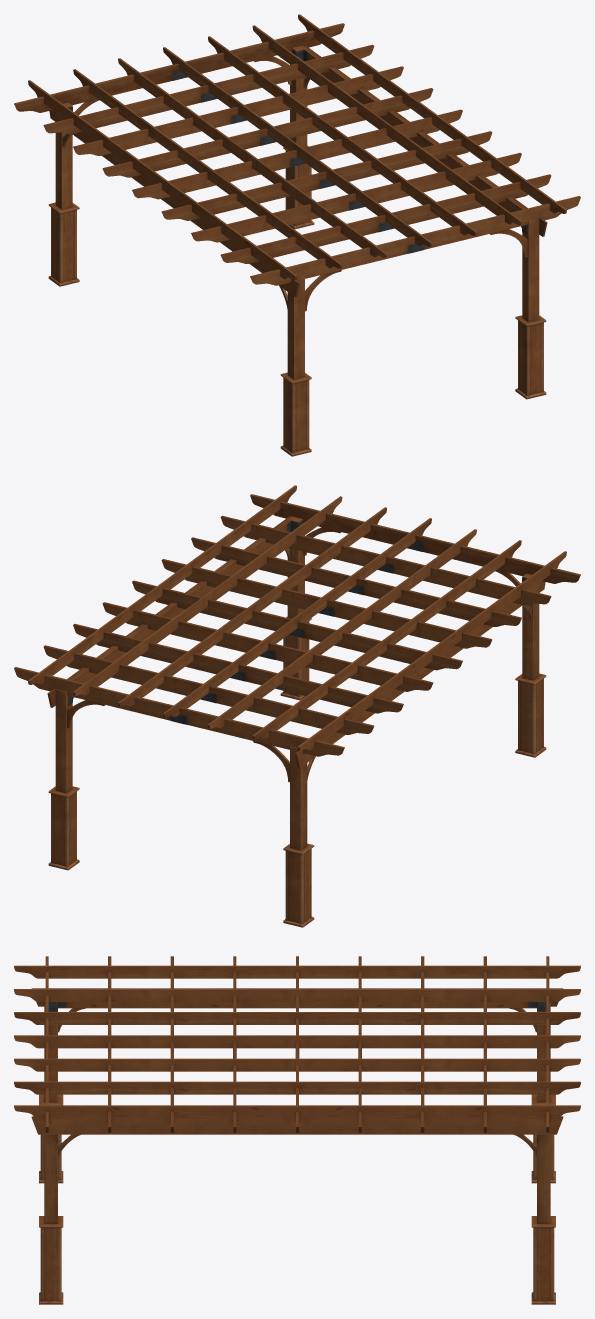
Rendered from GardenPergola01_3.FBX.
3 views of the same model, one above another, from view 1: azimuth 30°, elevation 25°; view 2: azimuth 150°, elevation 25°; view 3: azimuth 270°, elevation 25° (orthographic). The views are drawn at different scales.
Parts seen in each view (by area): view 1: GardenPergola01_3; view 2: GardenPergola01_3; view 3: GardenPergola01_3.
Part boxes in pixels (x1,y1,x2,y2): GardenPergola01_3: [14, 14, 580, 456]; GardenPergola01_3: [14, 485, 580, 927]; GardenPergola01_3: [14, 956, 580, 1304].
Size of what is drawn, in the model's own units: 5.16 by 2.87 by 7.25.
